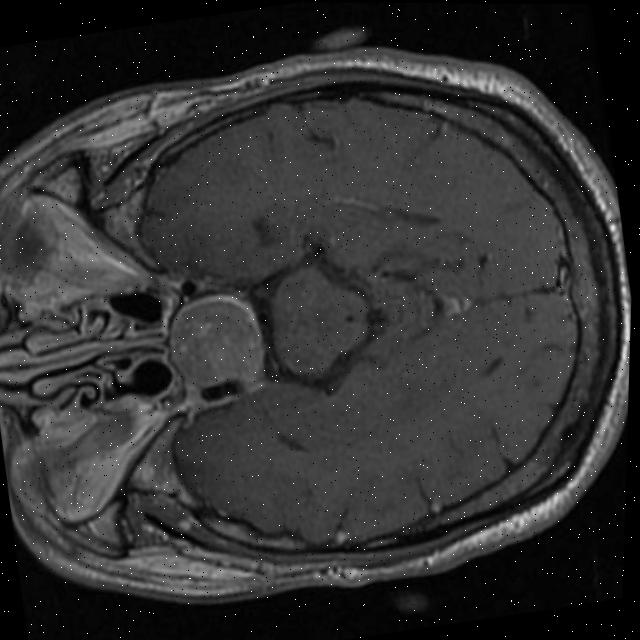Pituitary: (161, 289, 269, 395)
